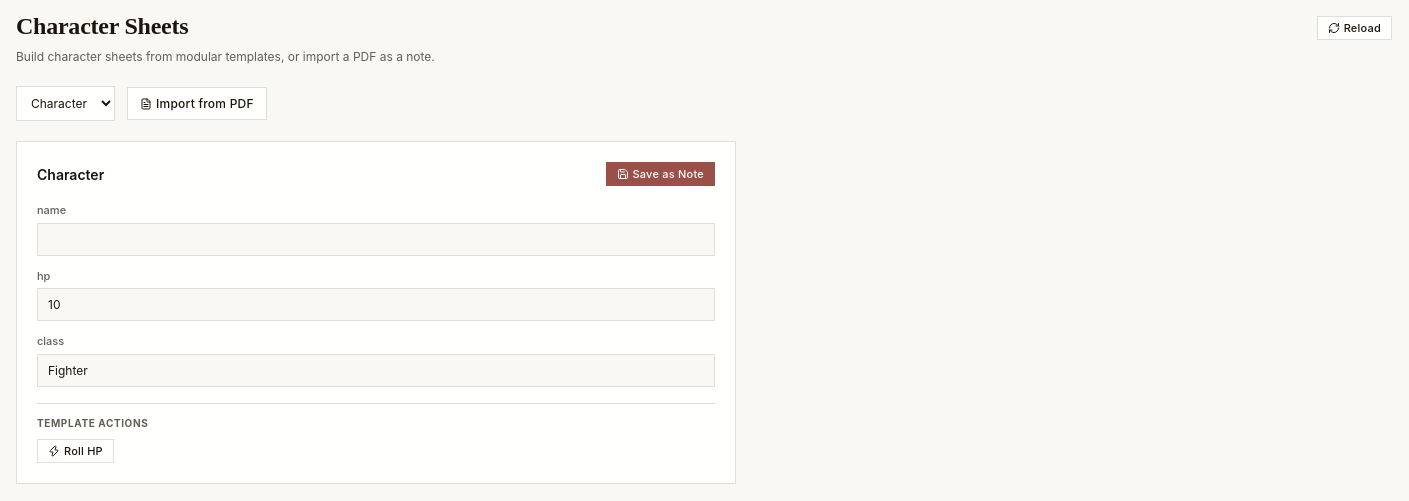
CharacterSheetView › resets form values when switching templates
Expected: the heading "Character" is shown, x1=37 y1=164 x2=104 y2=184
Expected: the field showing "Fighter" is shown, x1=37 y1=354 x2=715 y2=386
Type "Elira" into the field labelled "name". click: coordinates (376, 239)
box: x1=37 y1=222 x2=715 y2=256
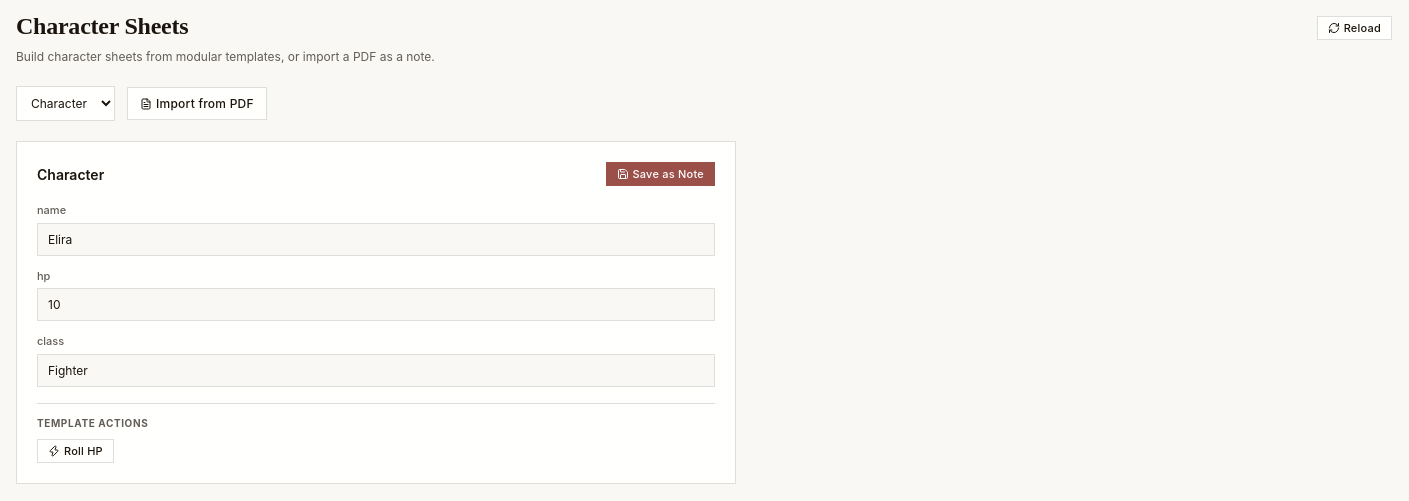
Select "NPC" in the dropdown. click: coordinates (66, 104)
box: x1=16 y1=86 x2=115 y2=121
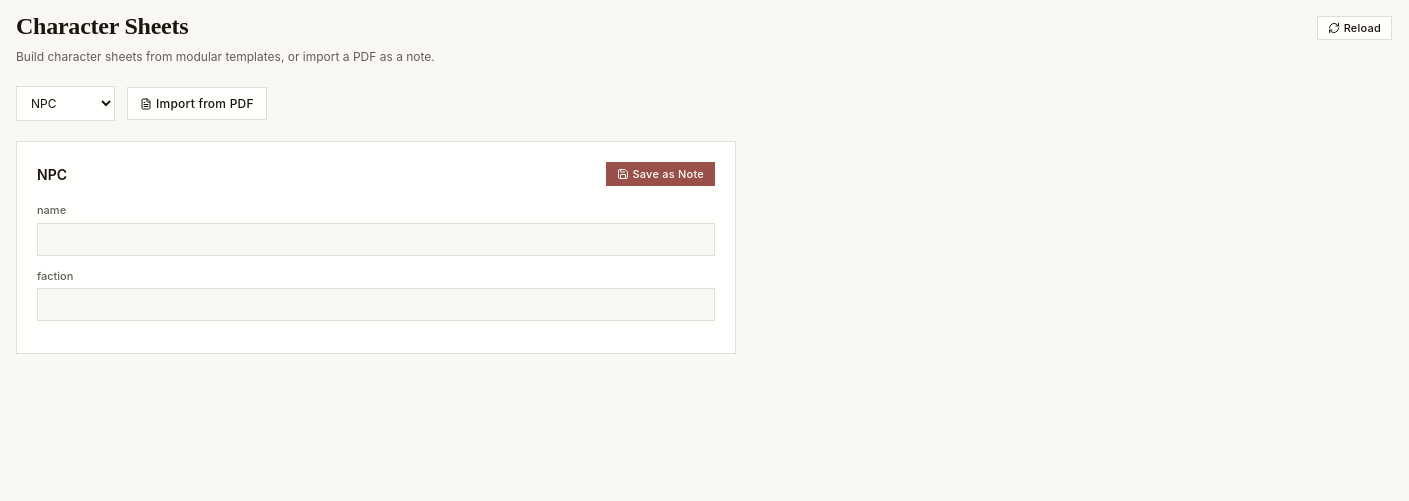
Expected: the field labelled "name" is empty, x1=37 y1=222 x2=715 y2=256
Expected: the field labelled "faction" is shown, x1=37 y1=288 x2=715 y2=321
